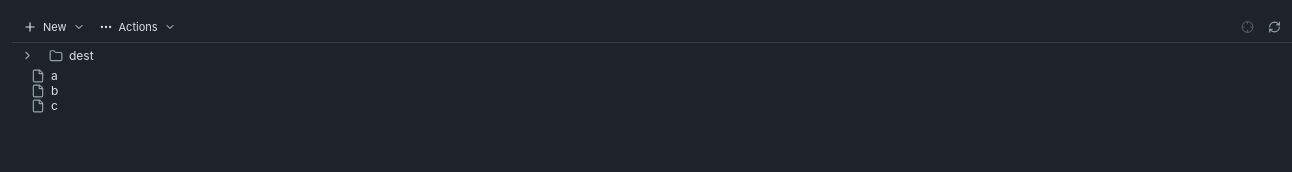
pastes into the selected folder, selects completed copies and leaves original selections on failure
The image size is (1292, 172).
expect the text "a" is shown: met, box [51,68,58,83]
Click the text "dest".
click(81, 56)  # box [69,48,94,63]
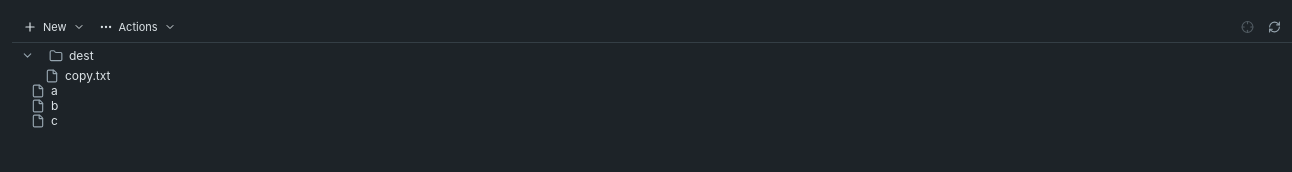
expect the text "copy.txt" is shown: met, box [65,68,110,83]
